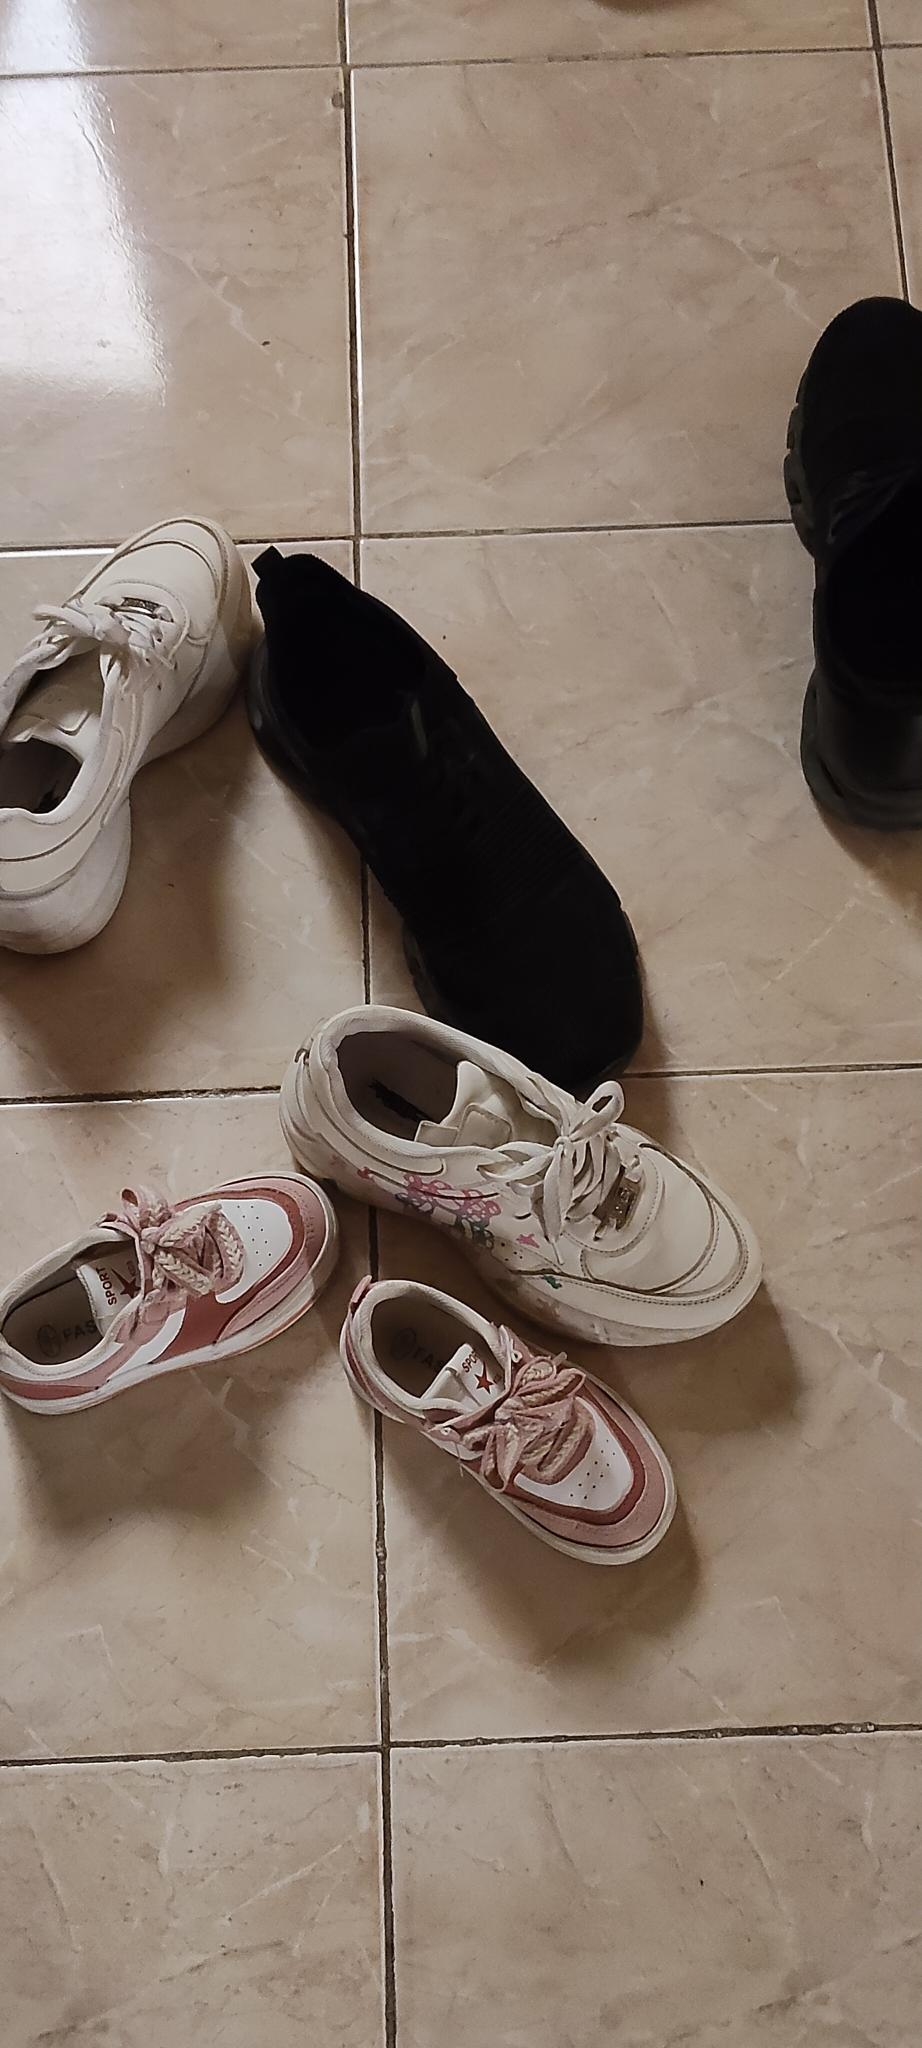Shoes: (244, 546, 645, 1096), (279, 1006, 760, 1349), (0, 516, 256, 954), (339, 1273, 677, 1567), (0, 1171, 343, 1412), (782, 293, 922, 836)
